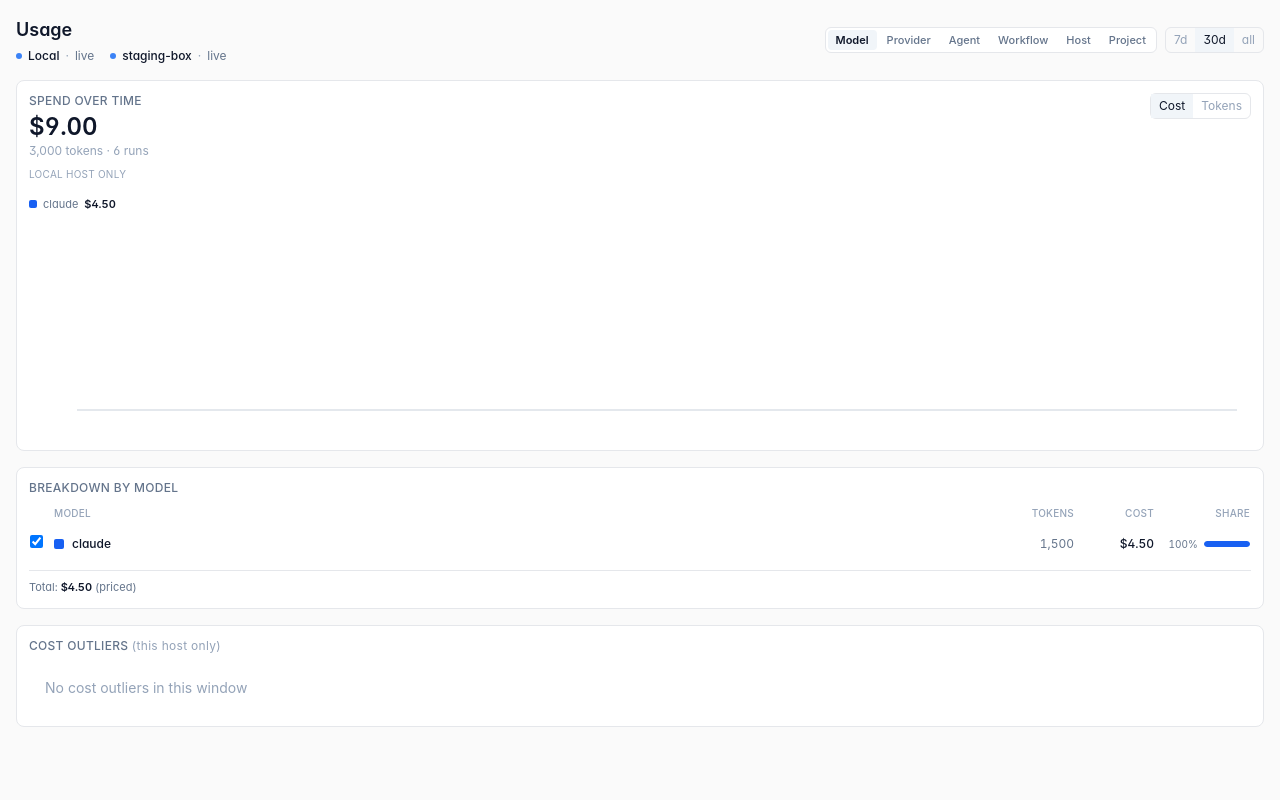
Scenario: Usage page › labels the local-only timeline graph and outliers panel, and maps the host pivot to friendly names, on a multi-host fleet
Expected: the text "local host only" is shown, [29,168,126,180]
Expected: the text "(this host only)" is shown, [132,638,221,652]
Step 1. Click the button "host" → click(1079, 40), box [1058,30,1099,50]
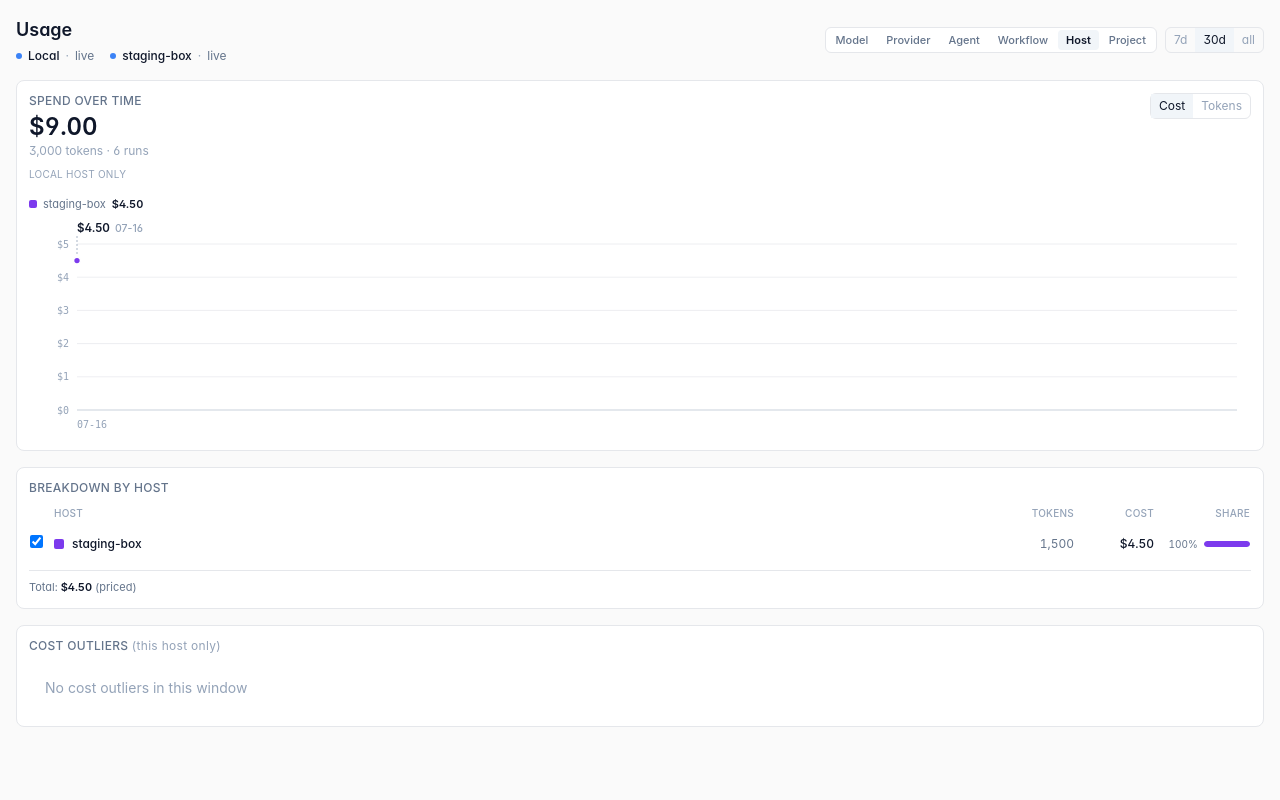
Now the text "staging-box" in the row of "1,500" is shown, box [72,536,142,550]
